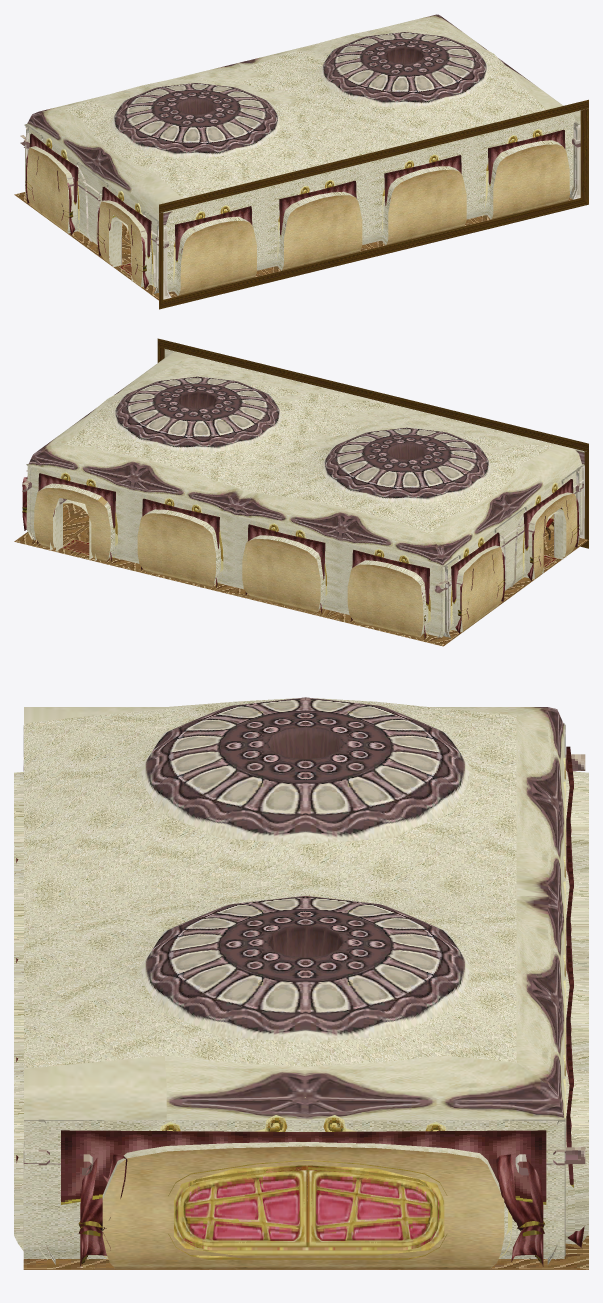
File: room_10.glb
3 views of the same model, one above another, from view 1: azimuth 30°, elevation 25°; view 2: azimuth 150°, elevation 25°; view 3: azimuth 270°, elevation 25° (orthographic). The views are drawn at different scales.
Visible parts, largest first — view 1: room_10; view 2: room_10; view 3: room_10.
Part boxes in pixels (x1,y1,x2,y2): room_10: (14, 14, 588, 309); room_10: (14, 338, 588, 646); room_10: (14, 697, 588, 1269).
Size of the model in its own units: 2608 by 706 by 1531.
27 materials, 27 textured.
